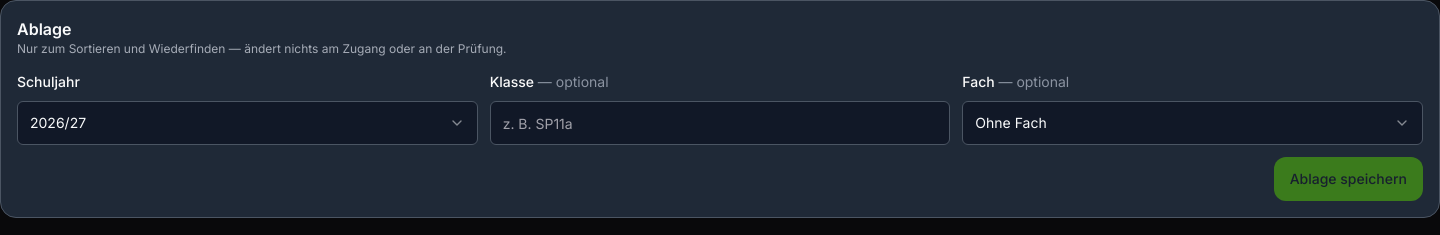
Test: AssessmentCategoryCard › ruht nach dem Speichern, auch wenn der Server die Klasse anders schreibt (BUG-4)
This screenshot has width=1440, height=235.
Type "sp11a" into the field labelled "Klasse — optional" at (720, 123), box [490,101,950,145]
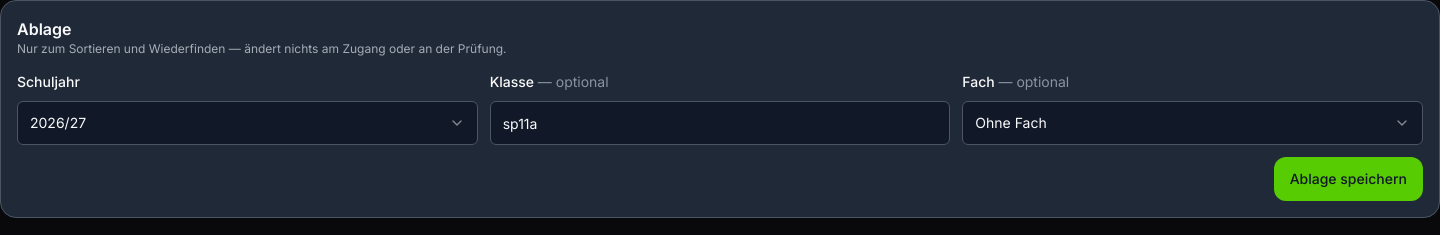
Click the button "Ablage speichern" at (1348, 179), box [1274,157,1423,201]
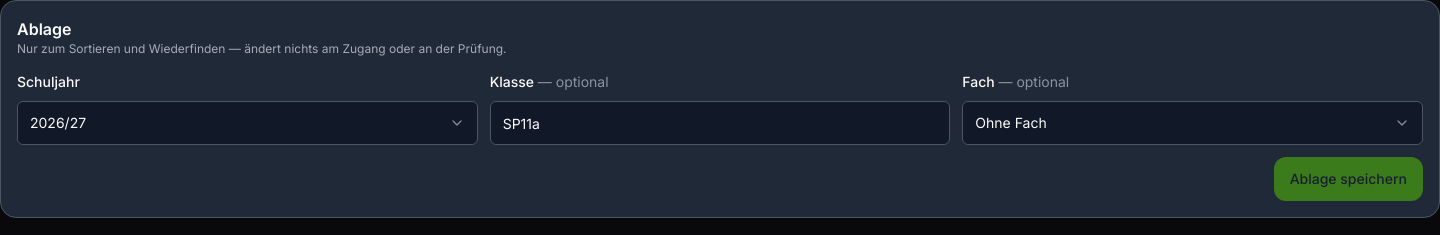
Result: the button "Ablage speichern" is disabled at [1274,157,1423,201]
